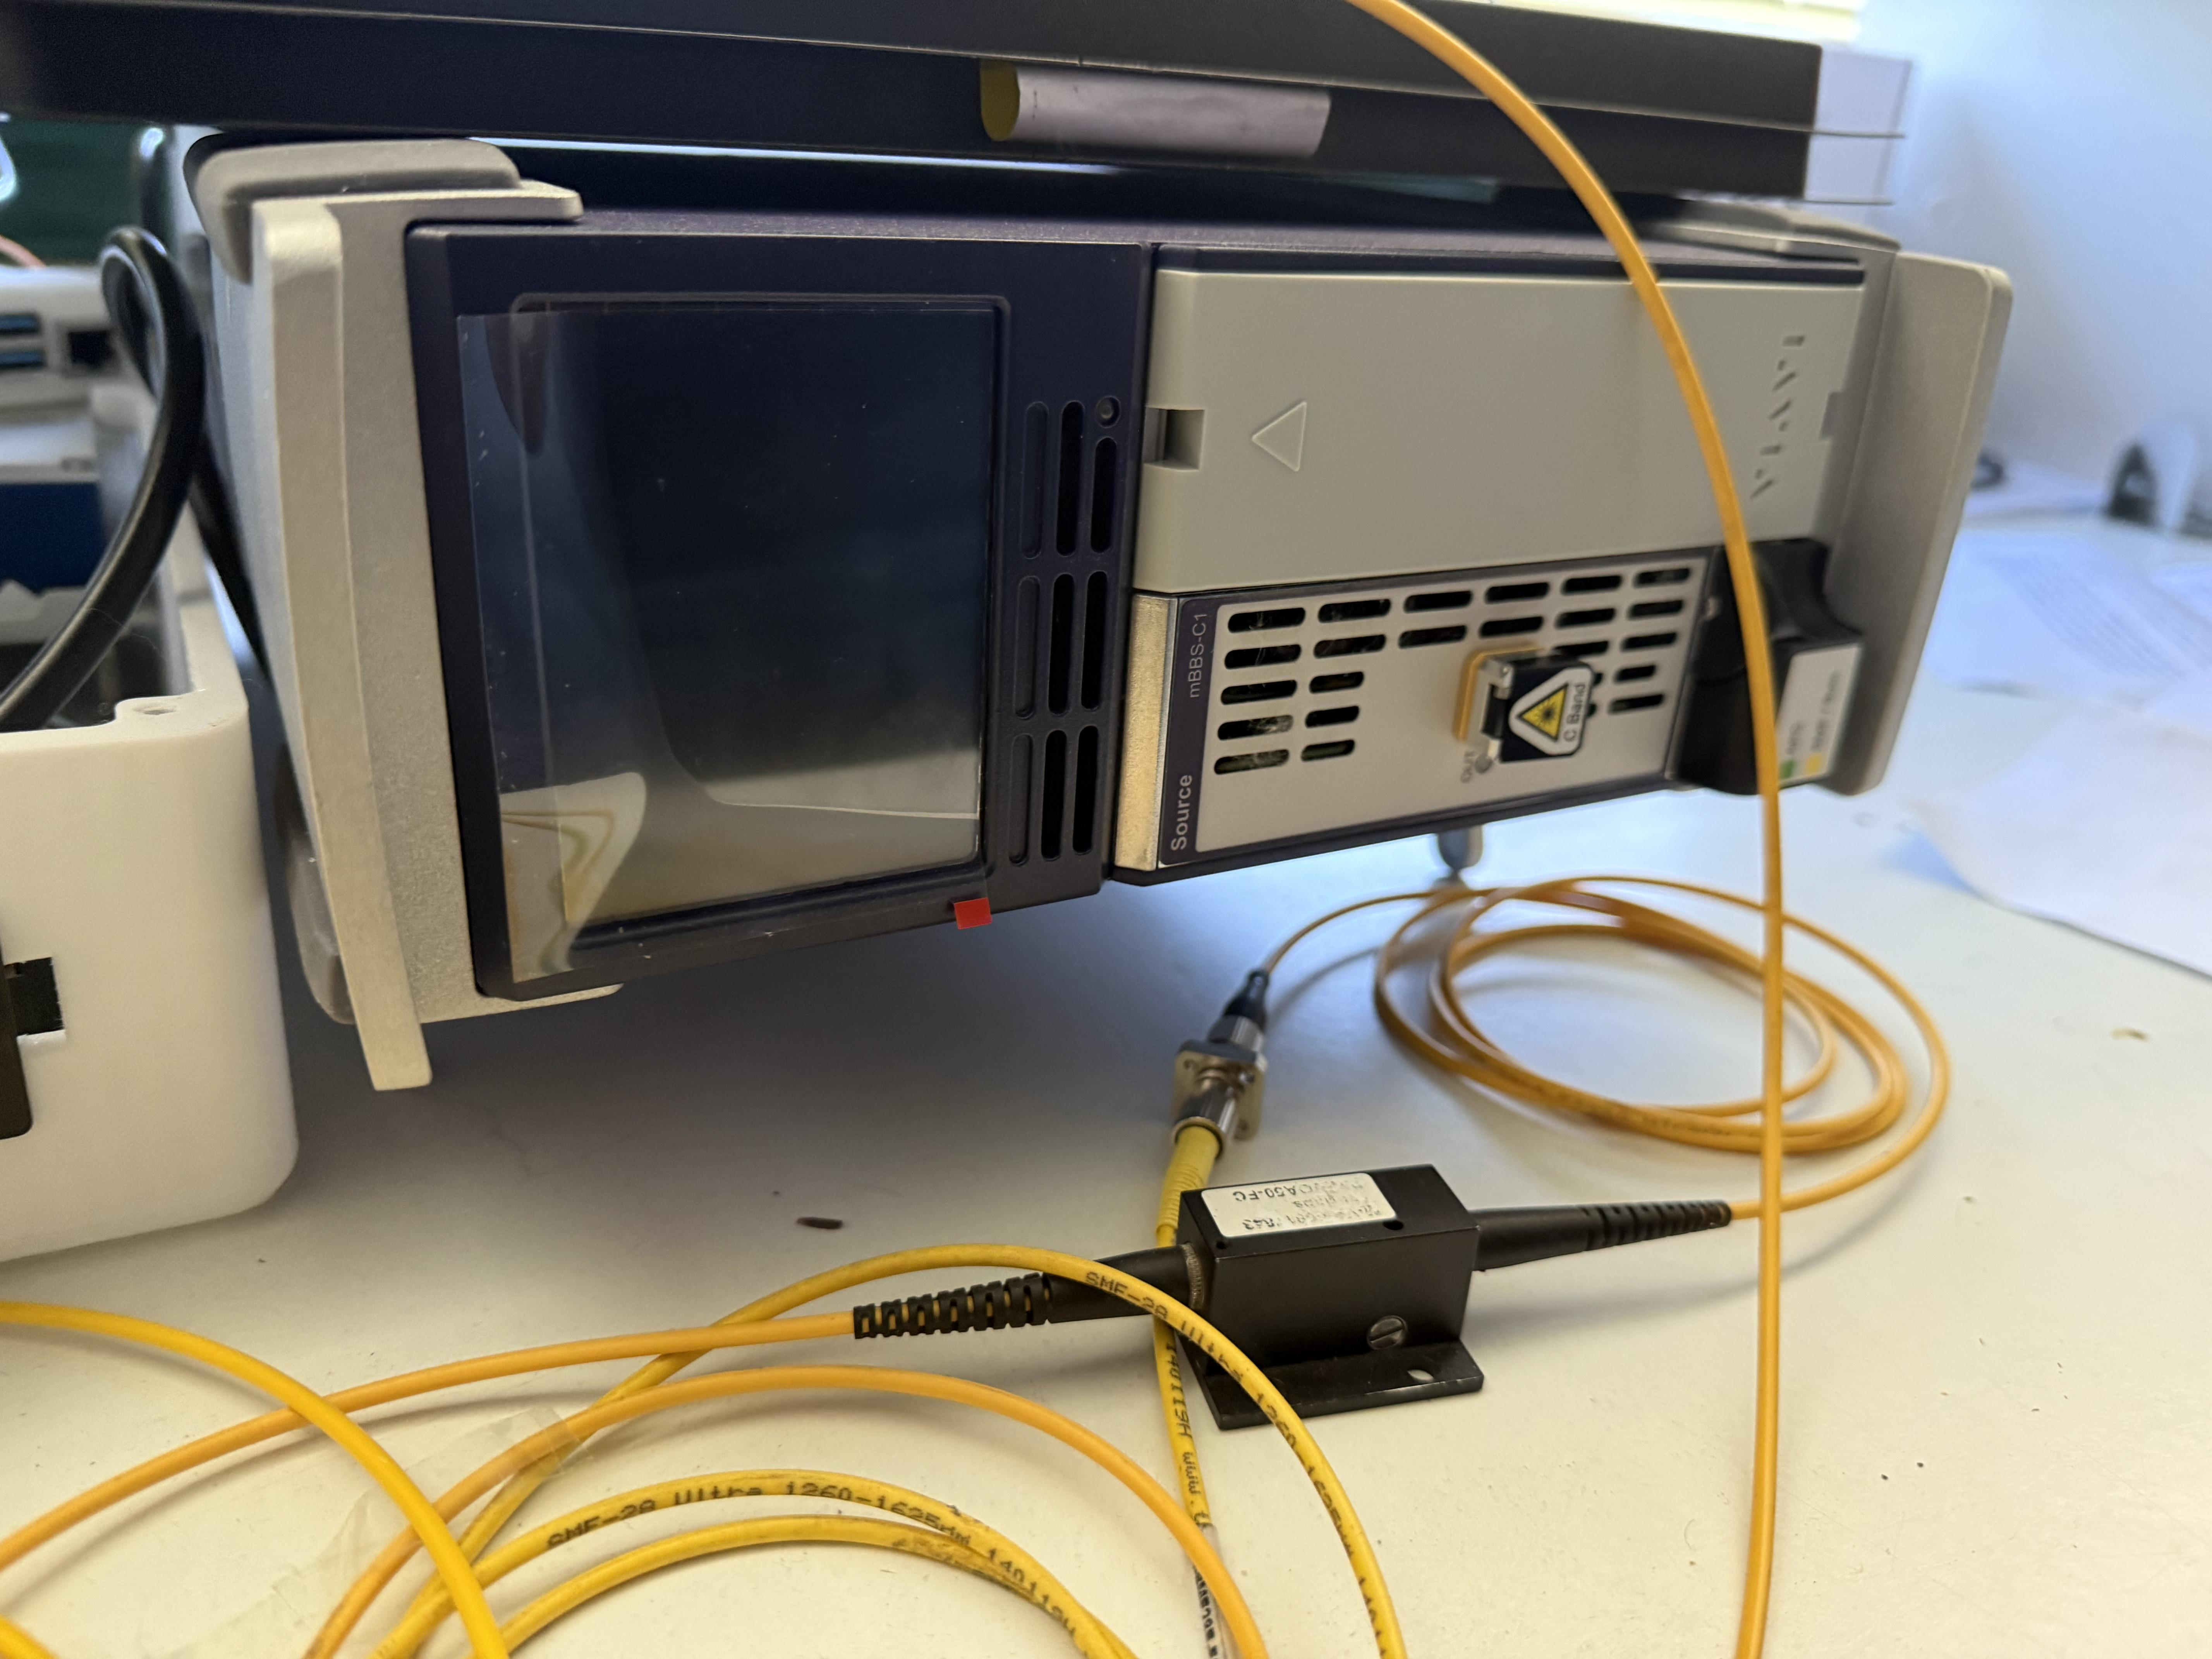laser: (219, 139, 2029, 1098)
